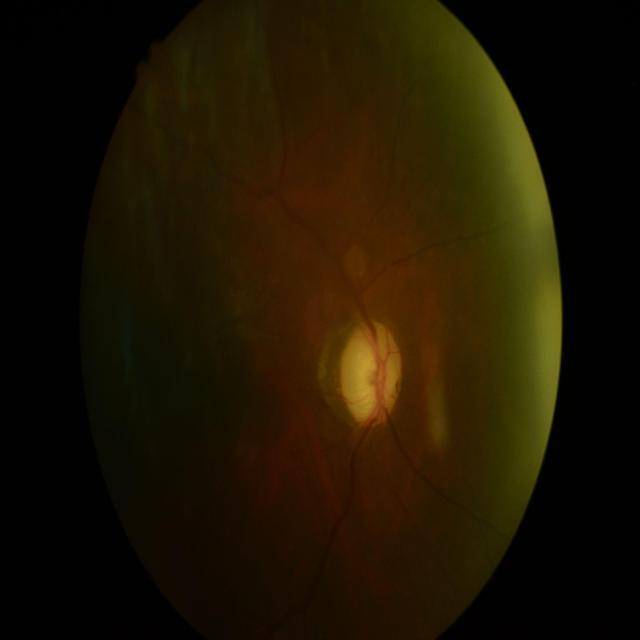cup: (348, 331, 390, 417)
disk: (339, 317, 403, 427)
